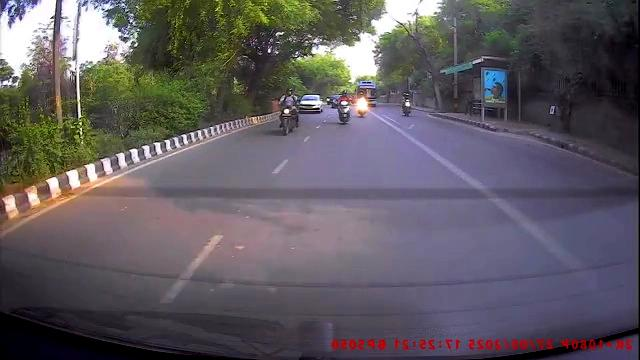motorcycle_with_helmet: (277, 86, 301, 137), (335, 89, 351, 125)
